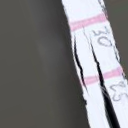crackTip: (81, 26, 125, 128)
